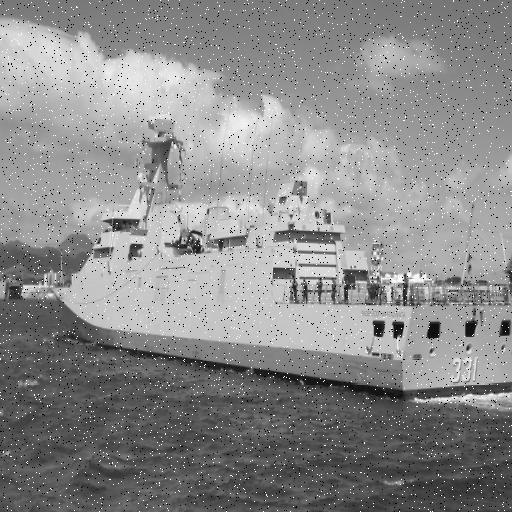Fragata: (44, 101, 512, 404)
